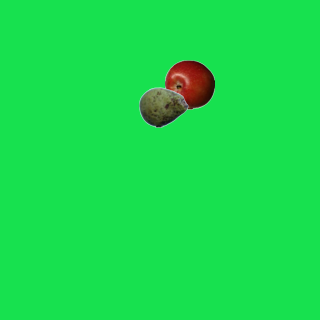Apple Braeburn: (164, 59, 214, 109)
Pear Stone: (138, 82, 188, 132)
